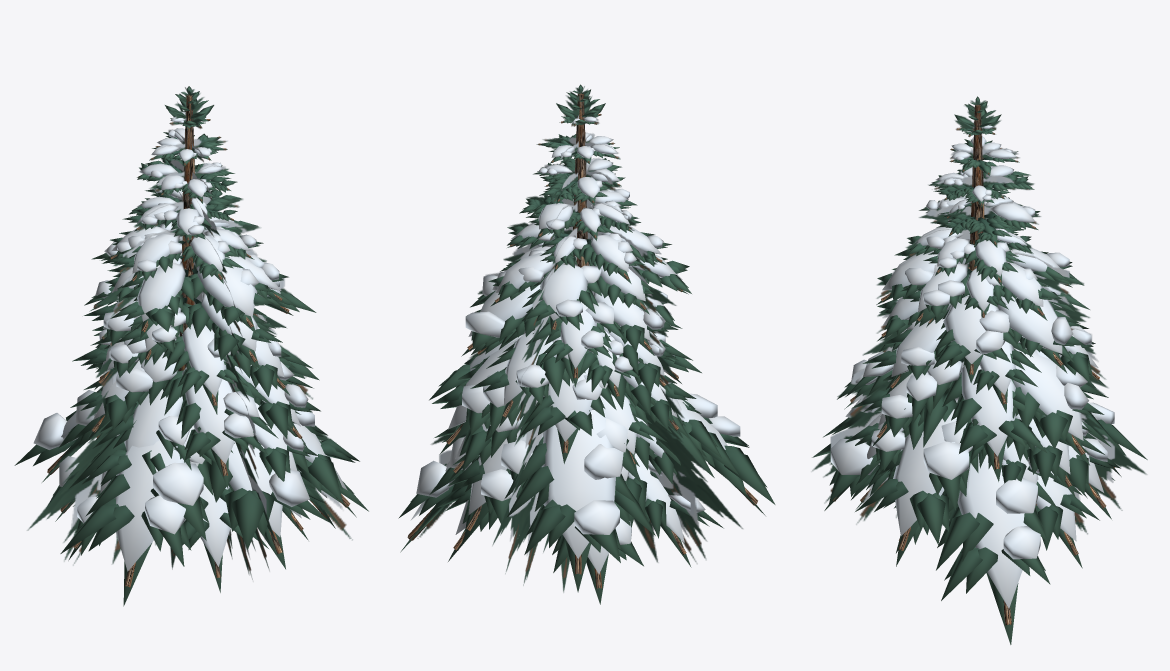
The model's file is tree17.glb.
3 renders of one model, left to right at view 1: azimuth 30°, elevation 25°; view 2: azimuth 150°, elevation 25°; view 3: azimuth 270°, elevation 25°, orthographic. The views are drawn at different scales.
Visible parts, largest first — view 1: Alpine17_2, Alpine17_1, Empty.004, Alpine17_0; view 2: Alpine17_1, Alpine17_2, Empty.004, Alpine17_0; view 3: Alpine17_2, Alpine17_1, Empty.004, Alpine17_0.
Boxes of the visible parts, left/top/right/bottom form: Alpine17_2: left=33, top=111, right=347, bottom=571; Alpine17_1: left=14, top=86, right=368, bottom=606; Empty.004: left=27, top=87, right=352, bottom=579; Alpine17_0: left=47, top=94, right=350, bottom=587; Alpine17_1: left=398, top=84, right=775, bottom=604; Alpine17_2: left=410, top=116, right=740, bottom=574; Empty.004: left=417, top=86, right=742, bottom=592; Alpine17_0: left=407, top=93, right=757, bottom=588; Alpine17_2: left=830, top=124, right=1114, bottom=608; Alpine17_1: left=812, top=96, right=1147, bottom=644; Empty.004: left=812, top=100, right=1146, bottom=534; Alpine17_0: left=833, top=105, right=1114, bottom=625.
Size of the model in its own units: 8.97 by 12.78 by 8.41.
4 materials, 2 textured.
